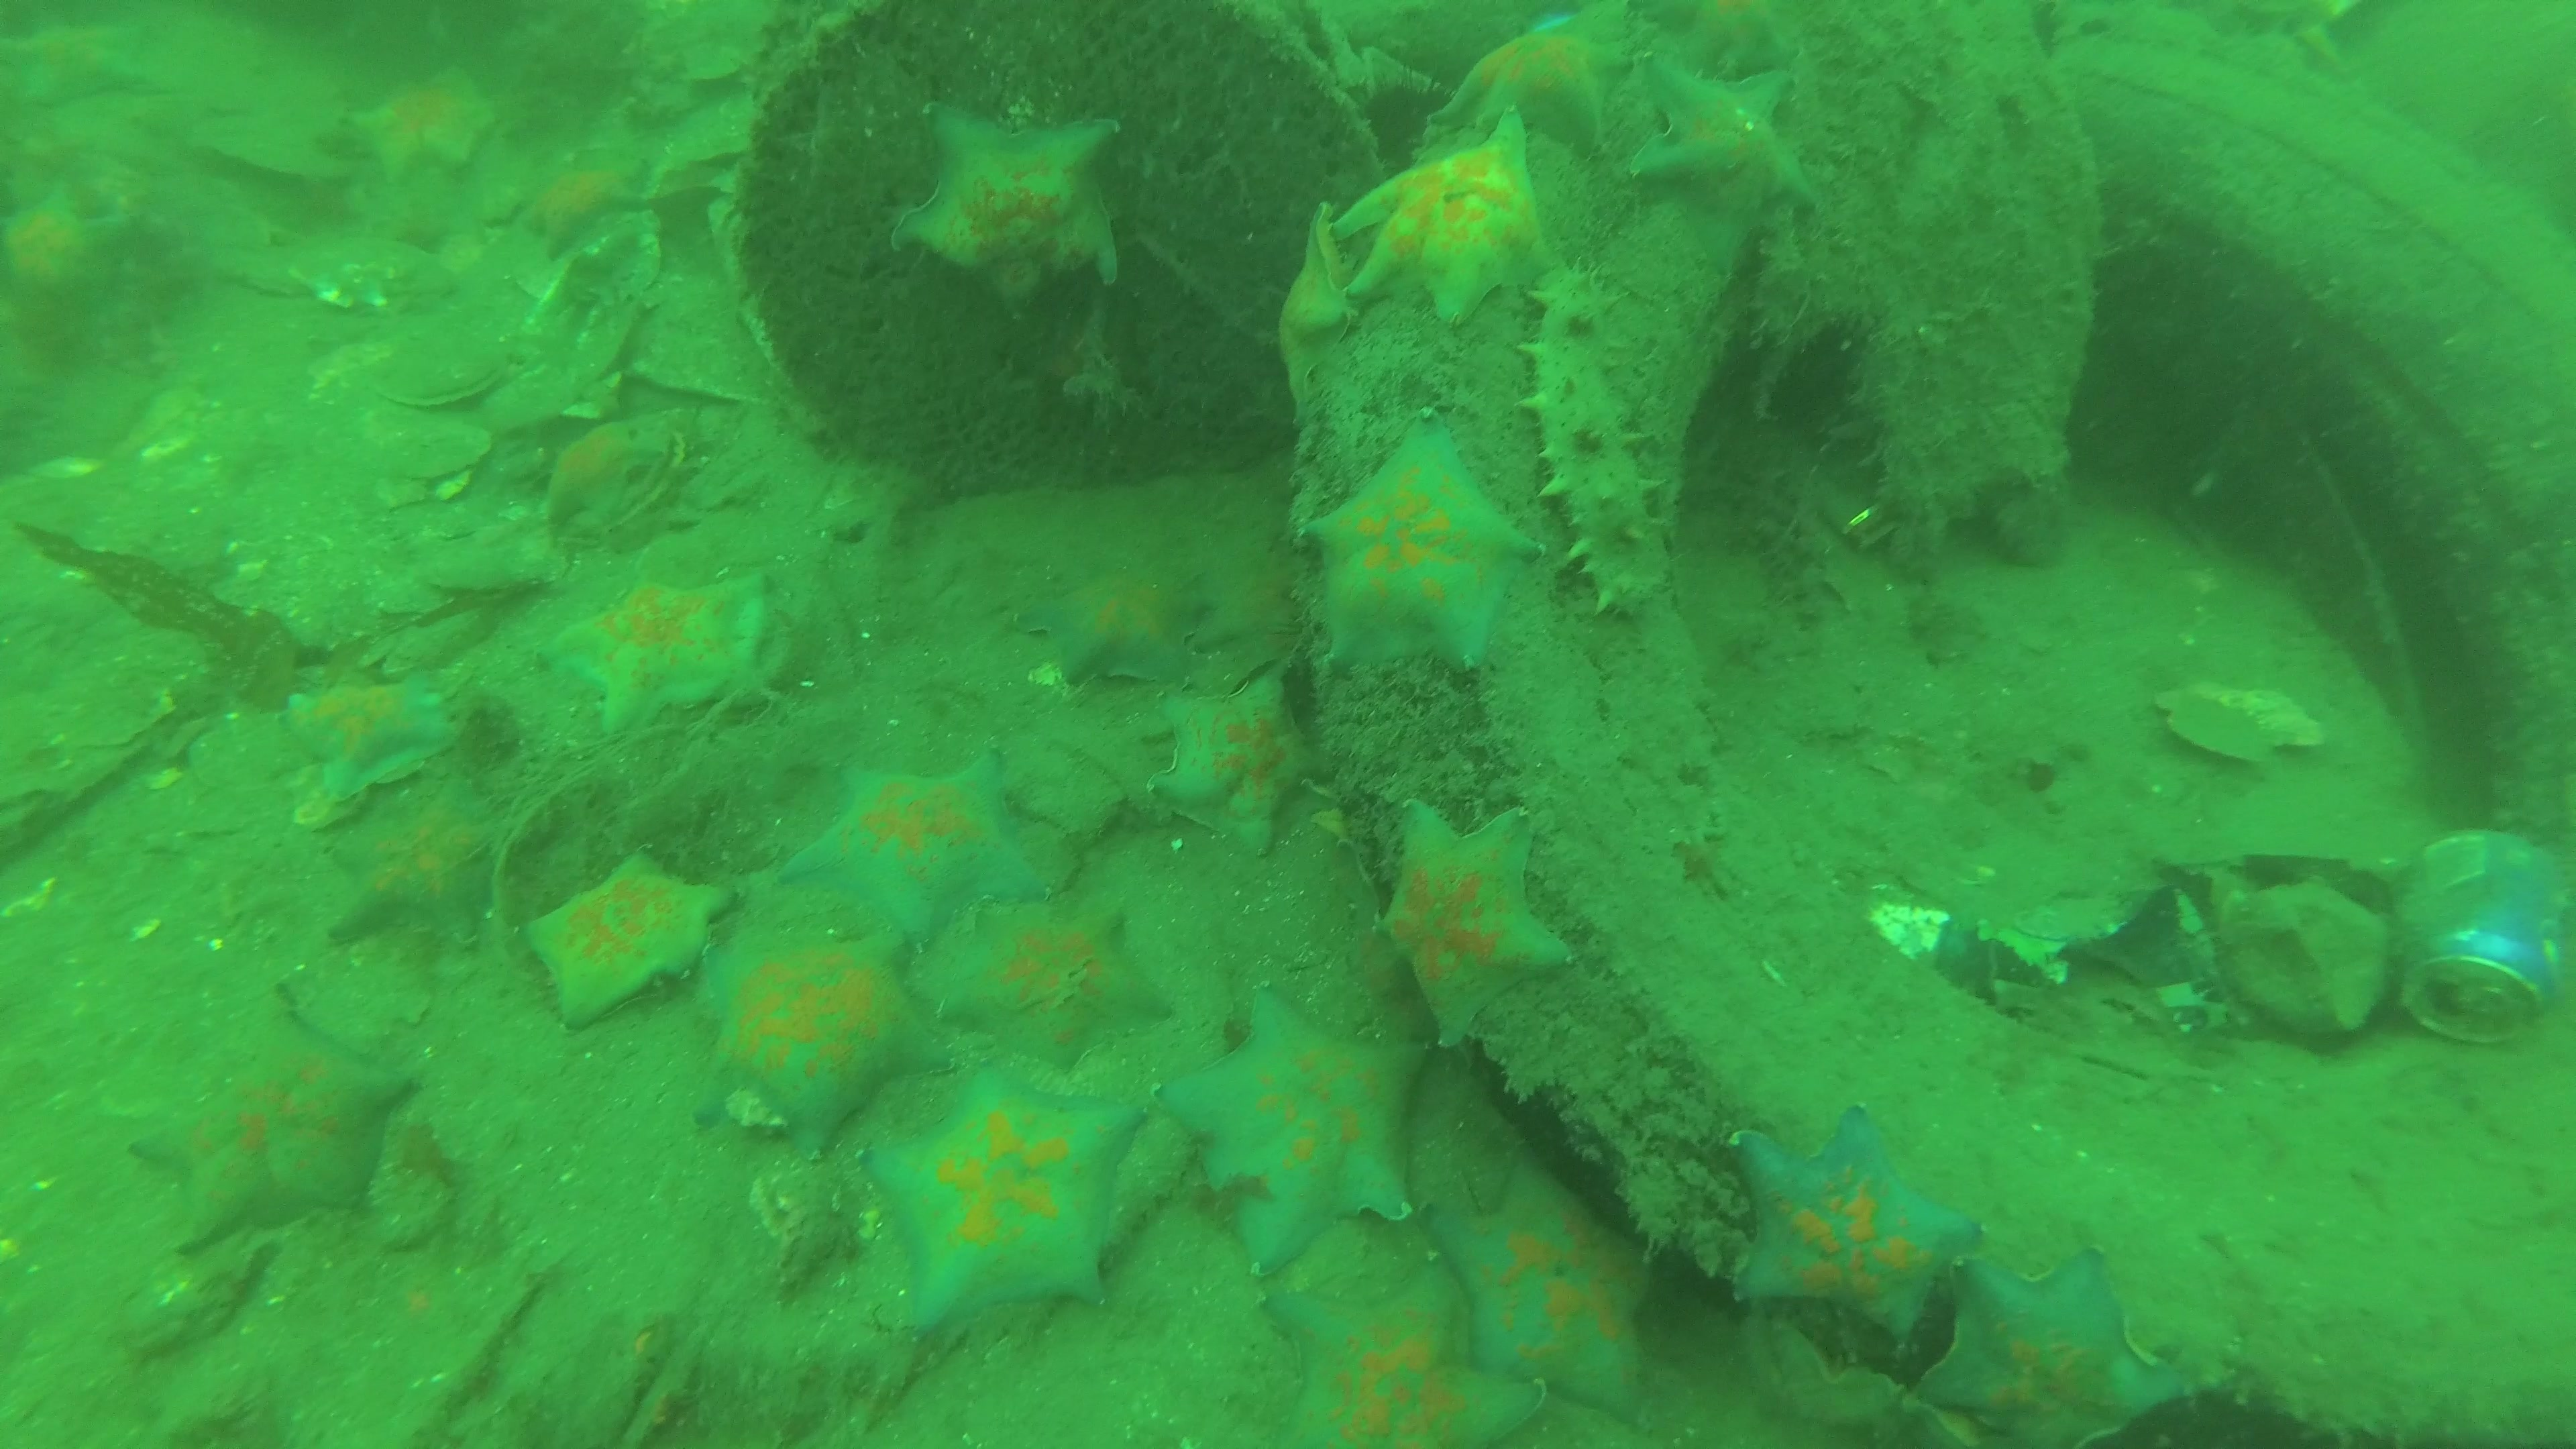holothurian: (1518, 267, 1668, 619), (747, 1161, 846, 1302)
scallop: (380, 361, 499, 409), (393, 426, 492, 479)
starfish: (1150, 978, 1435, 1279), (129, 980, 418, 1254), (858, 1067, 1146, 1332), (1417, 1138, 1663, 1424), (1293, 409, 1548, 672), (688, 927, 961, 1168), (1729, 1099, 1985, 1350), (1256, 1249, 1548, 1449), (777, 741, 1053, 952), (1914, 1246, 2192, 1449), (1330, 103, 1571, 329), (890, 97, 1120, 326), (1373, 798, 1575, 1053), (1628, 53, 1819, 285), (932, 893, 1177, 1074), (515, 844, 743, 1033), (538, 570, 768, 736), (1146, 656, 1325, 860), (1430, 5, 1635, 159), (324, 803, 506, 952), (1014, 577, 1214, 694), (287, 674, 460, 805), (1725, 1313, 1907, 1431), (338, 69, 502, 189), (0, 172, 138, 310), (1279, 200, 1357, 428), (0, 9, 166, 111), (524, 156, 651, 264), (547, 418, 669, 524)
